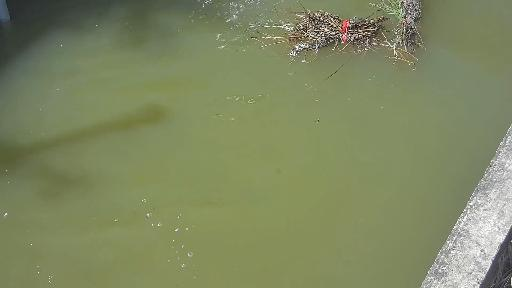twig: (270, 0, 394, 51), (375, 0, 442, 63)
